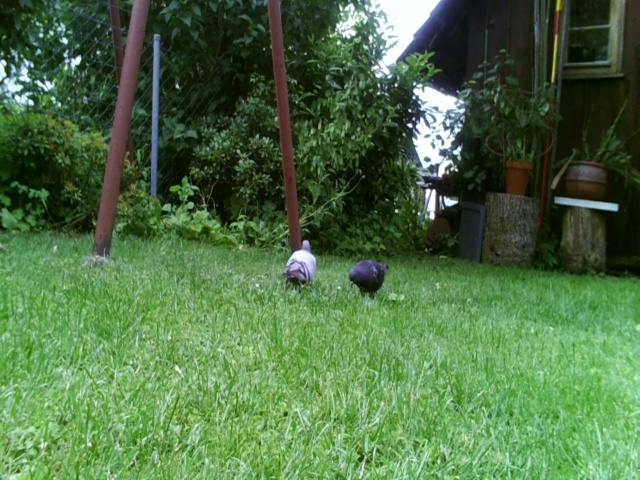Pigeon: (270, 236, 325, 296), (345, 252, 399, 305)
